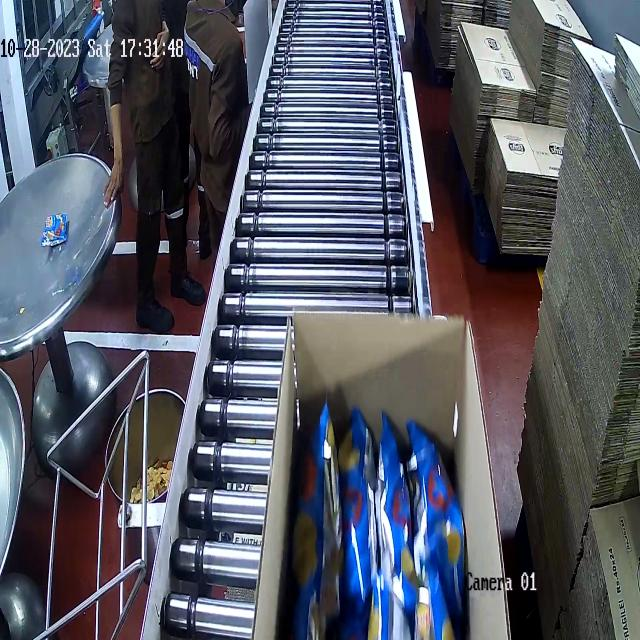PAPRIKA: (288, 391, 474, 640)
